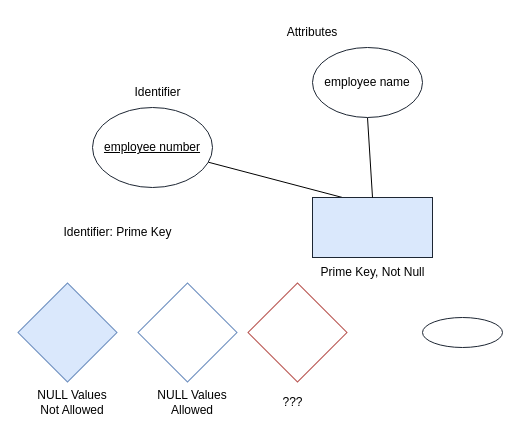
Image size: 520x434. Some labels were removed from this diagram. The shapes that lost their labels are listed below. From the top down, each one's box as (x1, y1, x2, y2) in pixels, then its label:
(312, 196, 432, 258): Employee
(422, 316, 502, 348): attribute
